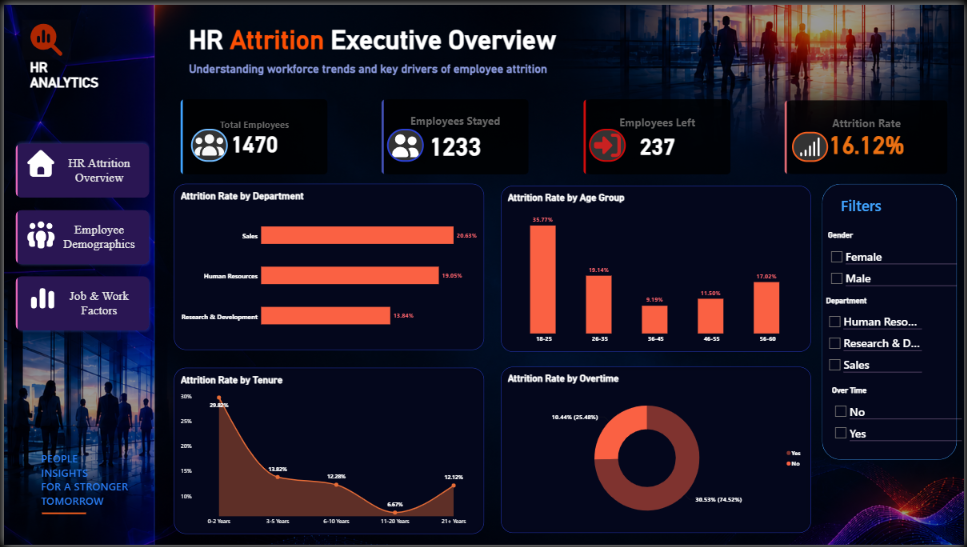

This screenshot's page, from the dashboard's own definition file:
{"tool":"powerbi","page":{"name":"HR Attrition Overview","canvas":[1920,1080],"ordinal":0},"visuals":[{"type":"shape","box":[1513.3,311.8,394.4,755.7],"z":0},{"type":"textbox","box":[0,0,1920,76],"z":1000},{"type":"cardVisual","fields":{"Data":["HR_Data.Total Employees"]},"box":[320,87.6,380,200],"z":2000},{"type":"clusteredBarChart","title":"Attrition Rate by Department","fields":{"Category":["HR_Data.Department"],"Y":["HR_Data.Attrition Rate"]},"box":[23.8,310,724.5,359.5],"z":3000},{"type":"clusteredBarChart","title":"Attrition Rate by Overtime","fields":{"Category":["HR_Data.OverTime"],"Y":["HR_Data.Attrition Rate"]},"box":[801.6,708,664,359.5],"z":4000},{"type":"clusteredColumnChart","title":"Attrition Rate by Age Group","fields":{"Y":["HR_Data.Attrition Rate"],"Category":["HR_Data.age_group"]},"box":[801.6,311.8,664,359.5],"z":5000},{"type":"clusteredColumnChart","title":"Attrition Rate by Tenure","fields":{"Y":["HR_Data.Attrition Rate"],"Category":["HR_Data.tenure_group"]},"box":[23.8,708,724.5,359.5],"z":6000},{"type":"cardVisual","fields":{"Data":["HR_Data.Employees Left"]},"box":[1521.3,84.5,380,200],"z":7000},{"type":"cardVisual","fields":{"Data":["HR_Data.Employees Stayed"]},"box":[720.4,89.6,380,200],"z":8000},{"type":"cardVisual","fields":{"Data":["HR_Data.Attrition Rate"]},"box":[1120.8,84.5,380,200],"z":9000},{"type":"slicer","title":"Gender","fields":{"Values":["HR_Data.Gender"]},"box":[1530,409.8,387.7,159.7],"z":10000,"group":"g2"},{"type":"group","id":"g1","title":"Group 1","box":[1530,624.5,374.2,213.3],"z":10000},{"type":"slicer","title":"Over Time","fields":{"Values":["HR_Data.OverTime"]},"box":[1530,892.1,387.4,159.2],"z":10000,"group":"g3"},{"type":"group","id":"g2","title":"Group 2","box":[1530,409.8,387.7,159.7],"z":11000},{"type":"group","id":"g3","title":"Group 2","box":[1530,892.1,387.4,159.2],"z":12000},{"type":"textbox","box":[1530,340,121.7,48.3],"z":13000},{"type":"slicer","title":"Department","fields":{"Values":["HR_Data.Department"]},"box":[1530,624.5,374.2,213.3],"z":13001,"group":"g1"},{"type":"donutChart","title":"Employee Attrition Split","fields":{"Category":["HR_Data.Attrition"],"Y":["CountNonNull(HR_Data.EmployeeNumber)"]},"box":[0,54,320,272],"z":14000}]}

Visuals, with their boxes in screenshot pixels (x1, y1, x2, y2), scaled from the page's 1920x1080 canvas onto the 967x547 screenshot:
shape: bbox=(762, 158, 961, 541)
textbox: bbox=(0, 0, 966, 38)
cardVisual - HR_Data.Total Employees: bbox=(161, 44, 353, 146)
"Attrition Rate by Department" clusteredBarChart: bbox=(12, 157, 377, 339)
"Attrition Rate by Overtime" clusteredBarChart: bbox=(404, 359, 738, 541)
"Attrition Rate by Age Group" clusteredColumnChart: bbox=(404, 158, 738, 340)
"Attrition Rate by Tenure" clusteredColumnChart: bbox=(12, 359, 377, 541)
cardVisual - HR_Data.Employees Left: bbox=(766, 43, 958, 144)
cardVisual - HR_Data.Employees Stayed: bbox=(363, 45, 554, 147)
cardVisual - HR_Data.Attrition Rate: bbox=(564, 43, 756, 144)
"Gender" slicer: bbox=(771, 208, 966, 288)
"Group 1" group: bbox=(771, 316, 959, 424)
"Over Time" slicer: bbox=(771, 452, 966, 532)
"Group 2" group: bbox=(771, 208, 966, 288)
"Group 2" group: bbox=(771, 452, 966, 532)
textbox: bbox=(771, 172, 832, 197)
"Department" slicer: bbox=(771, 316, 959, 424)
"Employee Attrition Split" donutChart: bbox=(0, 27, 161, 165)
